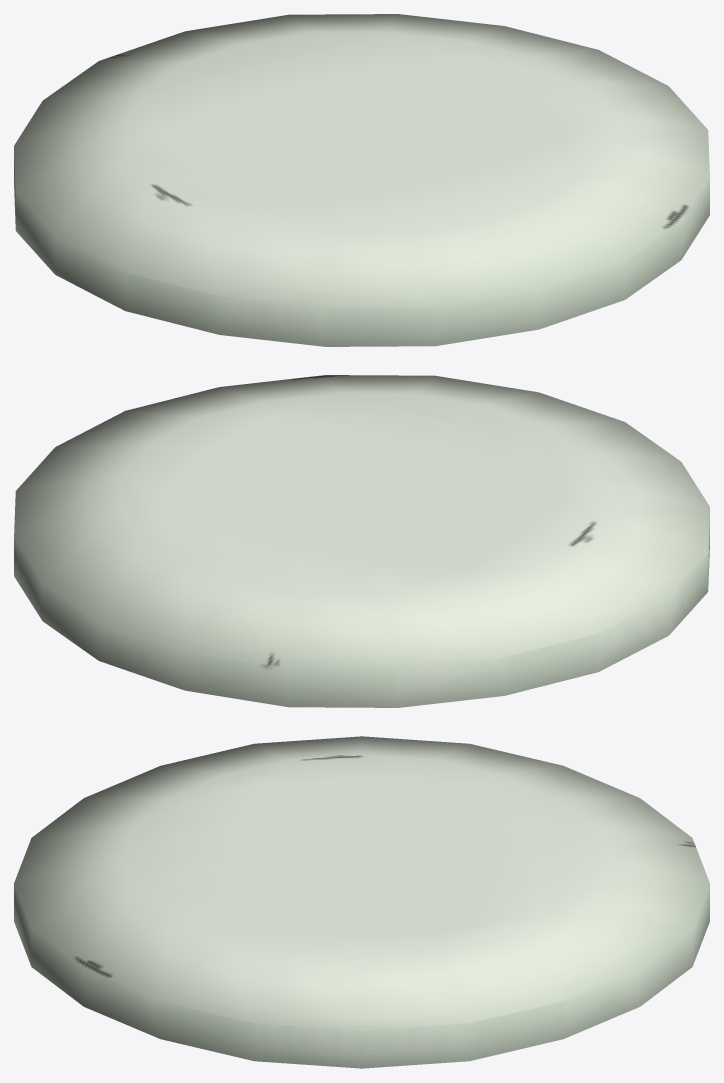
File: Lid.fbx
3 views of the same model, one above another, from view 1: azimuth 30°, elevation 25°; view 2: azimuth 150°, elevation 25°; view 3: azimuth 270°, elevation 25° (orthographic).
Parts seen in each view (by area): view 1: Lid; view 2: Lid; view 3: Lid.
Part boxes in pixels (left/top/right/bottom): Lid: left=14, top=14, right=709, bottom=346; Lid: left=14, top=375, right=709, bottom=707; Lid: left=14, top=736, right=709, bottom=1068.
Bounding box in the file's own units: 800 × 82.29 × 800.
